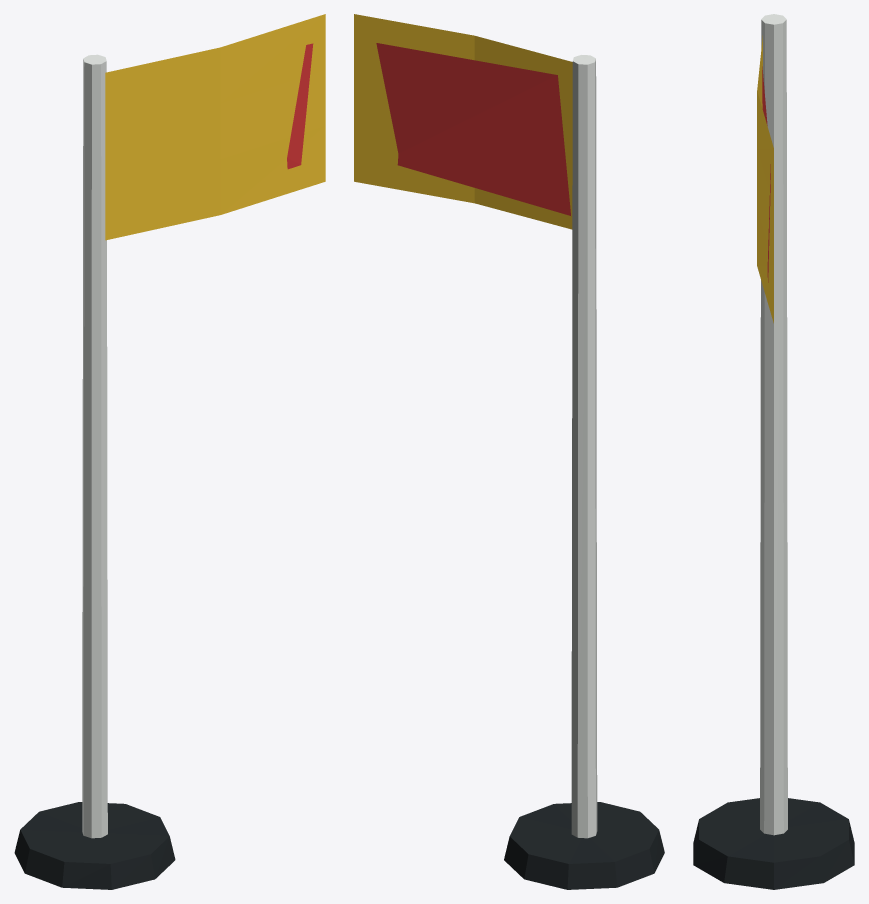
Rendered from corner_flag_lod0.glb.
3 renders of one model, left to right at view 1: azimuth 30°, elevation 25°; view 2: azimuth 150°, elevation 25°; view 3: azimuth 270°, elevation 25°, orthographic. The views are drawn at different scales.
Visible parts, largest first — view 1: corner_flag_mesh; view 2: corner_flag_mesh; view 3: corner_flag_mesh.
Part boxes in pixels (left/top/right/bottom): corner_flag_mesh: left=14, top=14, right=325, bottom=889; corner_flag_mesh: left=354, top=14, right=664, bottom=889; corner_flag_mesh: left=693, top=14, right=854, bottom=889.
Bounding box in the file's own units: 0.6 × 1.52 × 0.2663.
